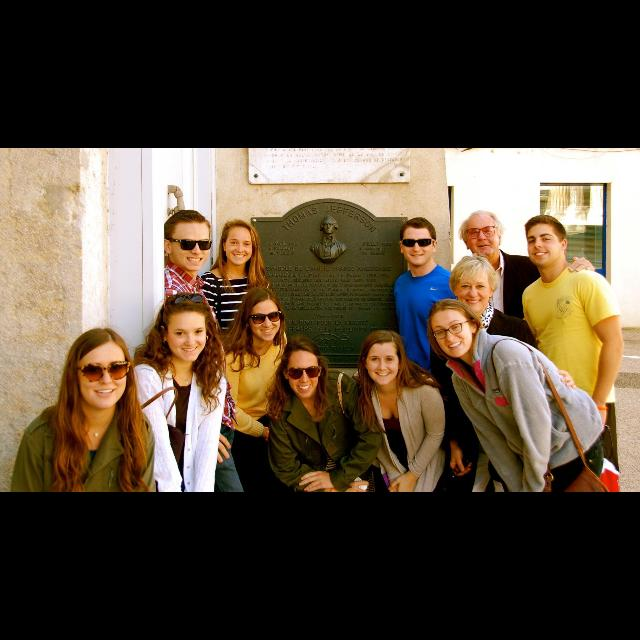head: (72, 328, 130, 412), (160, 293, 212, 363), (162, 209, 212, 271), (429, 298, 479, 359), (281, 338, 325, 399), (453, 258, 495, 314), (362, 332, 404, 386), (242, 287, 282, 343), (526, 216, 568, 268), (399, 218, 438, 266), (462, 212, 502, 256), (222, 222, 255, 266)
person: (190, 215, 278, 477)
